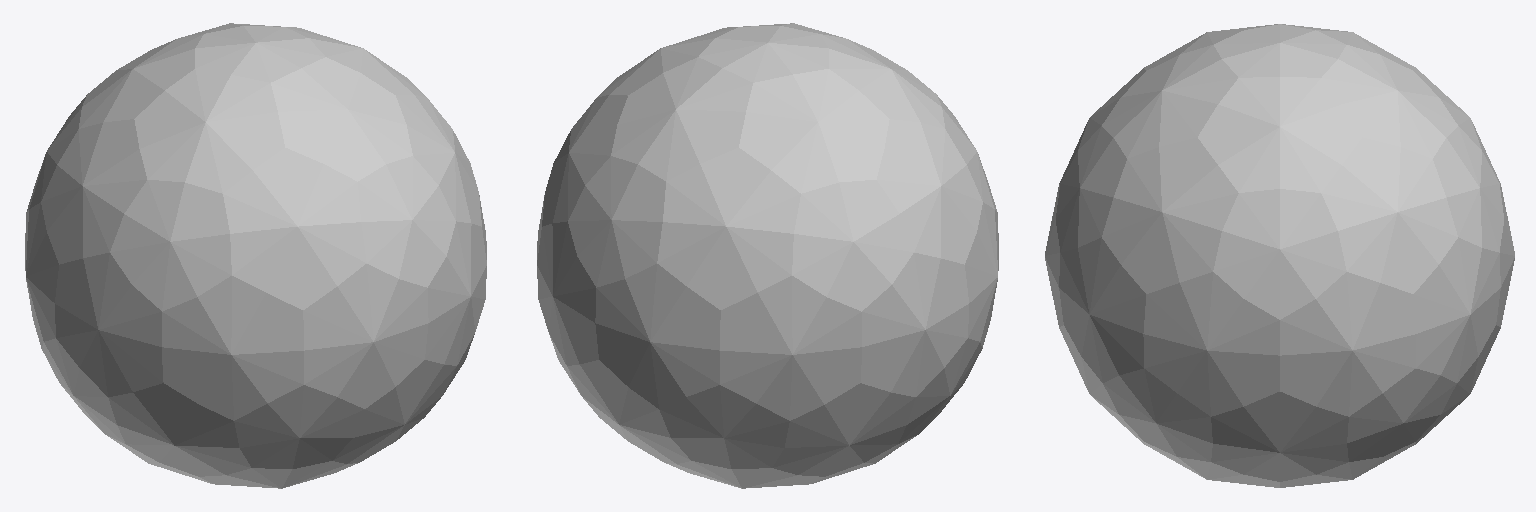
File: meteor.obj
3 views of the same model, side by side, from view 1: azimuth 30°, elevation 25°; view 2: azimuth 150°, elevation 25°; view 3: azimuth 270°, elevation 25° (orthographic).
Visible parts, largest first — view 1: Sphere; view 2: Sphere; view 3: Sphere.
Part boxes in pixels (left/top/right/bottom): Sphere: left=25, top=23, right=486, bottom=488; Sphere: left=537, top=23, right=998, bottom=488; Sphere: left=1045, top=24, right=1514, bottom=487.
Size of the model in its own units: 0.2455 by 0.2487 by 0.2489.